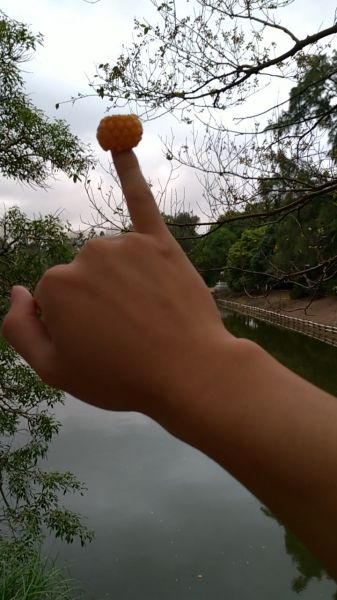eggs: (96, 114, 142, 151)
